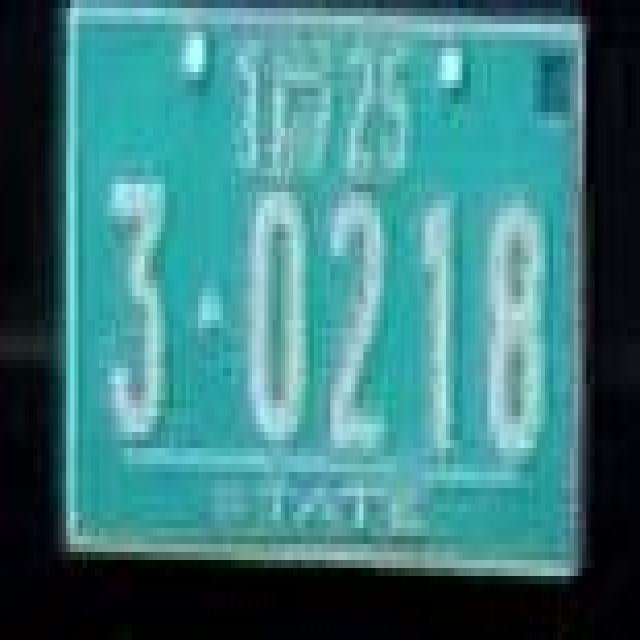State: (235, 32, 336, 179)
